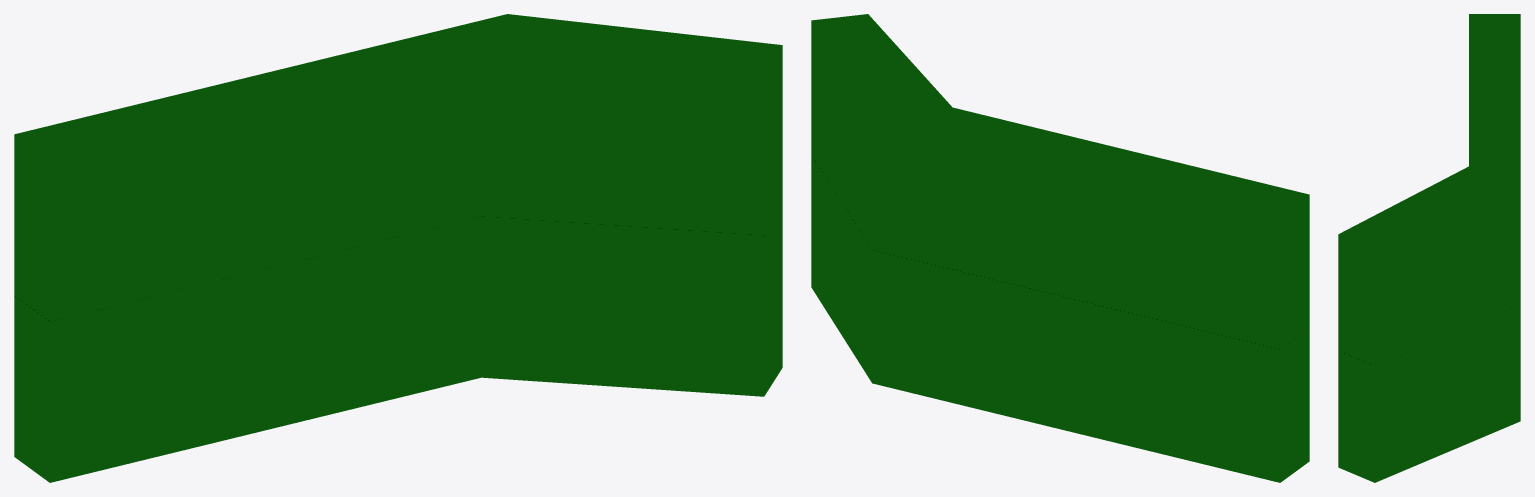
The model's file is BP000_L_FOOT.dae.
3 views of the same model, side by side, from view 1: azimuth 30°, elevation 25°; view 2: azimuth 150°, elevation 25°; view 3: azimuth 270°, elevation 25° (orthographic). The views are drawn at different scales.
Parts seen in each view (by area): view 1: root; view 2: root; view 3: root.
Boxes of the visible parts, left/top/right/bottom form: root: left=14, top=14, right=782, bottom=482; root: left=811, top=14, right=1309, bottom=482; root: left=1338, top=14, right=1520, bottom=482.
Size of the model in its own units: 0.2166 by 0.1 by 0.0707.
